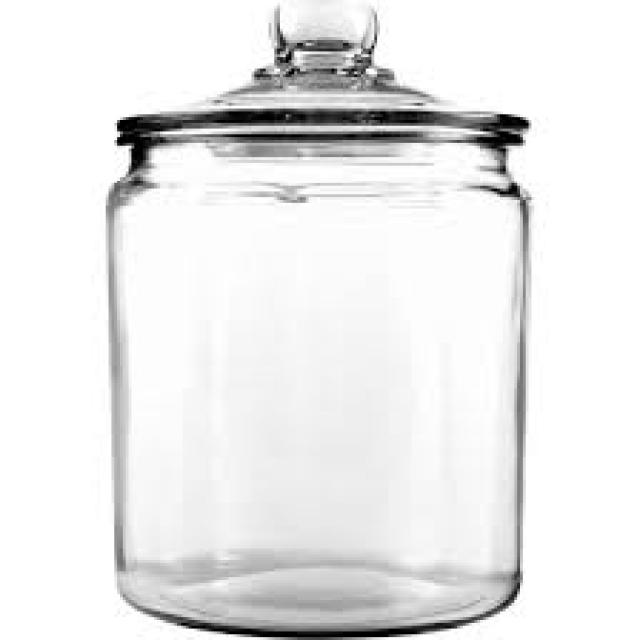glass: (100, 0, 526, 637)
